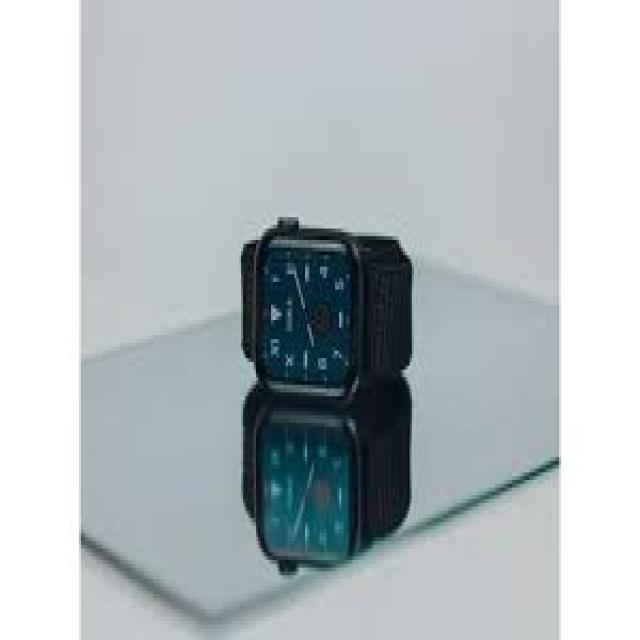objects: (240, 199, 414, 396)
